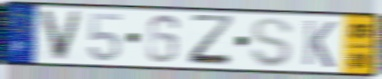5: (87, 12, 123, 63)
6: (145, 13, 180, 65)
K: (301, 18, 338, 70)
S: (248, 16, 294, 69)
V: (37, 8, 86, 63)
Z: (187, 13, 237, 68)
